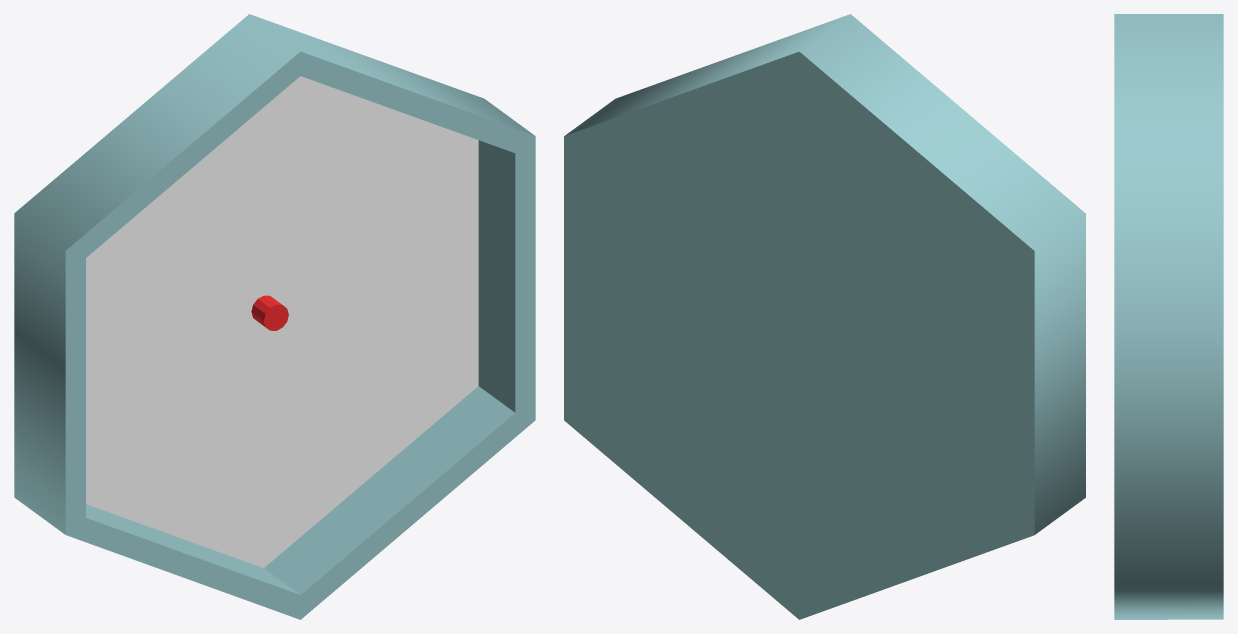
File: Itr_Obj_clock2_06.FBX
The picture shows the model from 3 angles, left to right: view 1: azimuth 30°, elevation 25°; view 2: azimuth 150°, elevation 25°; view 3: azimuth 270°, elevation 25°; orthographic projection. The views are drawn at different scales.
Parts seen in each view (by area): view 1: Itr_Obj_clock2_06; view 2: Itr_Obj_clock2_06; view 3: Itr_Obj_clock2_06.
Part boxes in pixels (x1,y1,x2,y2): Itr_Obj_clock2_06: (14, 14, 535, 619); Itr_Obj_clock2_06: (564, 14, 1085, 619); Itr_Obj_clock2_06: (1114, 14, 1223, 619).
Size of the model in its own units: 10.59 by 12.23 by 2.
